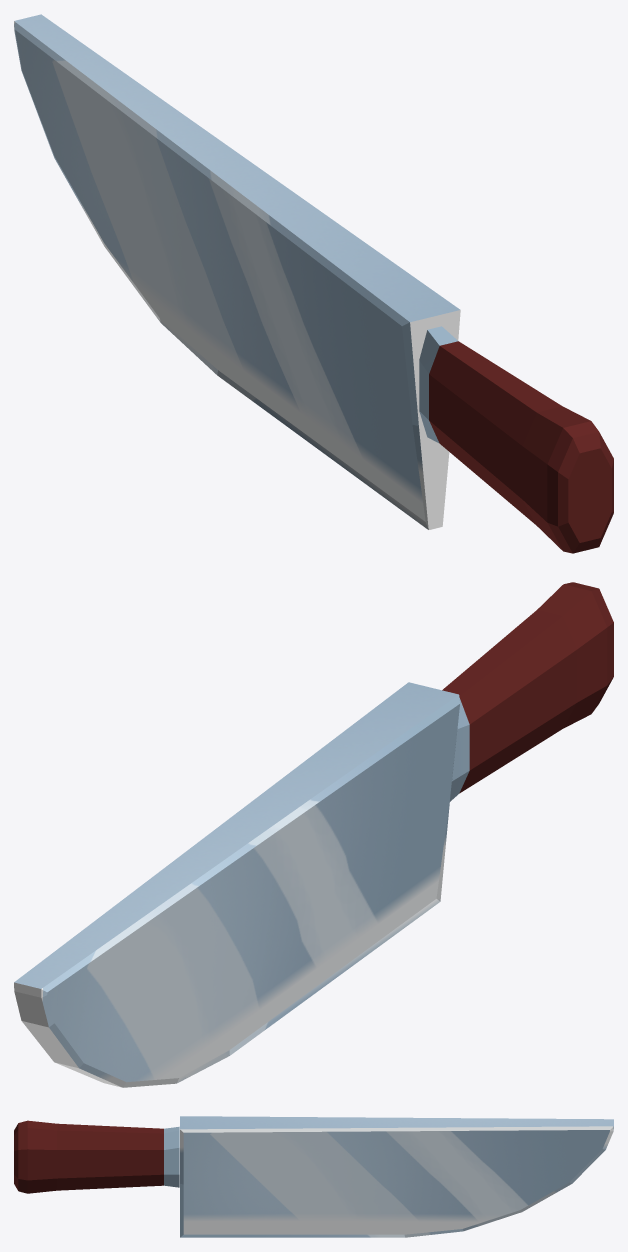
Rendered from knife.fbx.
3 views of the same model, one above another, from view 1: azimuth 30°, elevation 25°; view 2: azimuth 150°, elevation 25°; view 3: azimuth 270°, elevation 25° (orthographic). The views are drawn at different scales.
Visible parts, largest first — view 1: Cube.032; view 2: Cube.032; view 3: Cube.032.
Boxes of the visible parts, x1,y1,x2,y2 form: Cube.032: (14, 14, 613, 553); Cube.032: (14, 582, 613, 1087); Cube.032: (14, 1116, 613, 1237).
Size of the model in its own units: 0.2208 by 0.7503 by 3.61.
